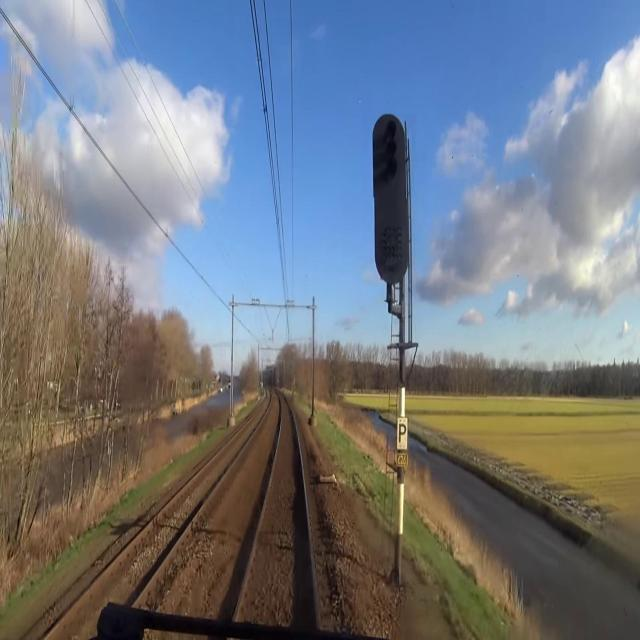rail-track: (49, 393, 269, 639), (236, 397, 314, 629)
